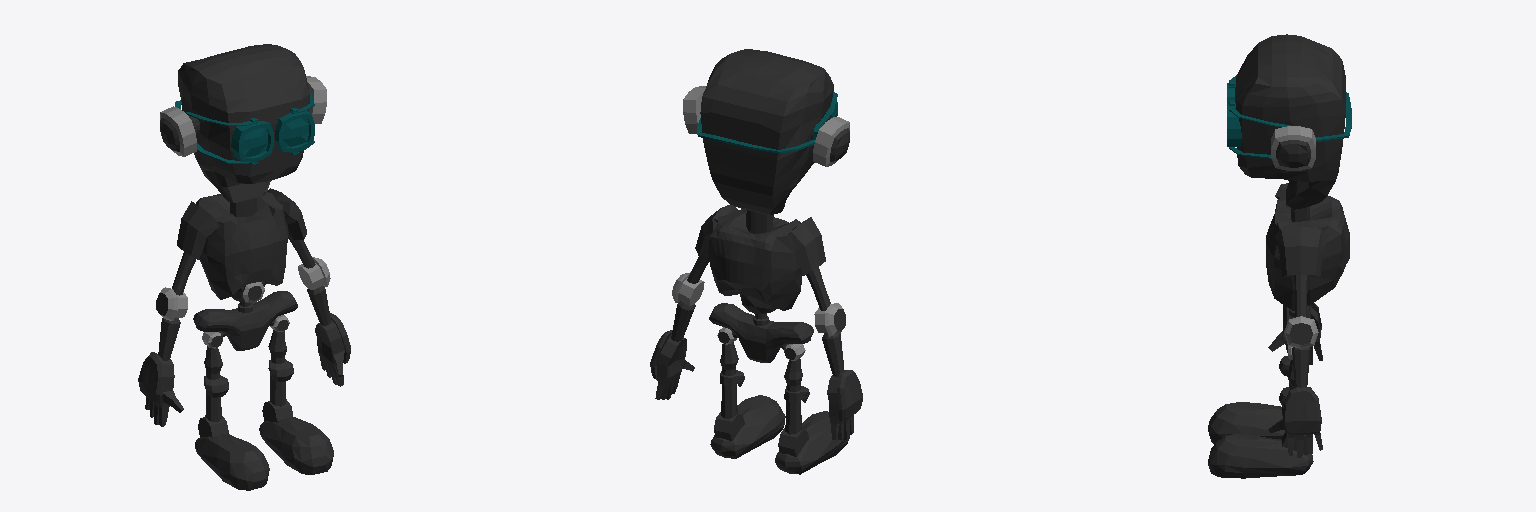
The model's file is boto.obj.
3 views of the same model, side by side, from view 1: azimuth 30°, elevation 25°; view 2: azimuth 150°, elevation 25°; view 3: azimuth 270°, elevation 25° (orthographic).
Parts seen in each view (by area): view 1: Body_Plane.002, Eyes_glass_Cube.008; view 2: Body_Plane.002, Eyes_glass_Cube.008; view 3: Body_Plane.002, Eyes_glass_Cube.008.
Boxes of the visible parts, x1,y1,x2,y2 form: Body_Plane.002: [138, 44, 350, 490]; Eyes_glass_Cube.008: [175, 91, 314, 164]; Body_Plane.002: [650, 49, 862, 474]; Eyes_glass_Cube.008: [697, 91, 837, 153]; Body_Plane.002: [1208, 34, 1349, 478]; Eyes_glass_Cube.008: [1227, 75, 1351, 158].
Size of the model in its own units: 3.65 by 7.03 by 2.31.